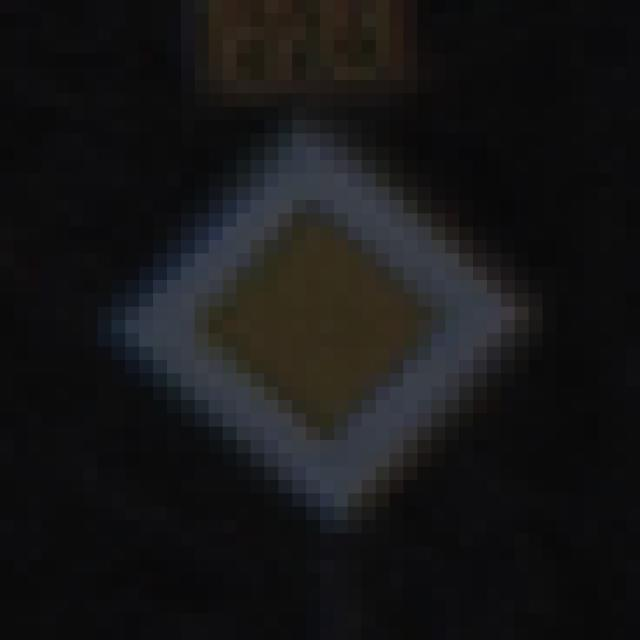Main Road: (71, 81, 572, 574)
